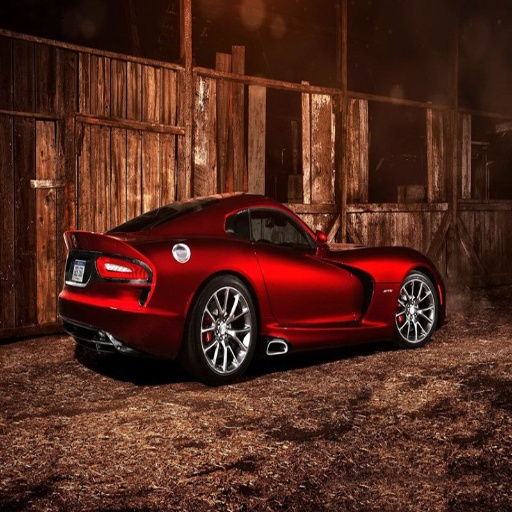back_right_door: (249, 208, 281, 261)
trunk: (64, 234, 155, 293)
